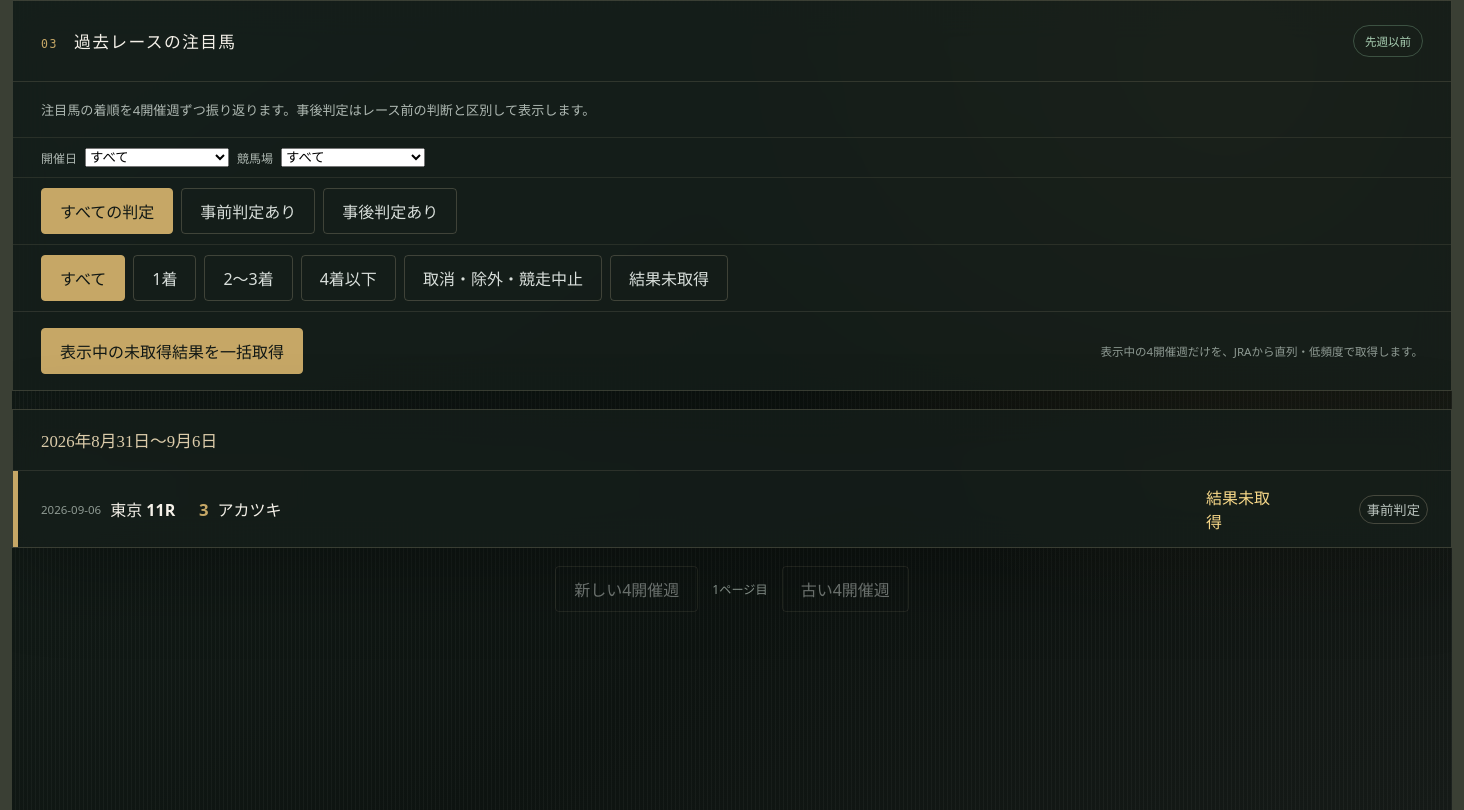
Test case: bulk-acquires missing results for the displayed meeting weeks and refreshes the rows
The image size is (1464, 810).
Expected: the button "2026-09-06 東京 11R 3 アカツキ 結果未取得 事前判定" is shown, [13, 471, 1451, 547]
Click the button "表示中の未取得結果を一括取得" at (172, 351), box [41, 328, 303, 374]
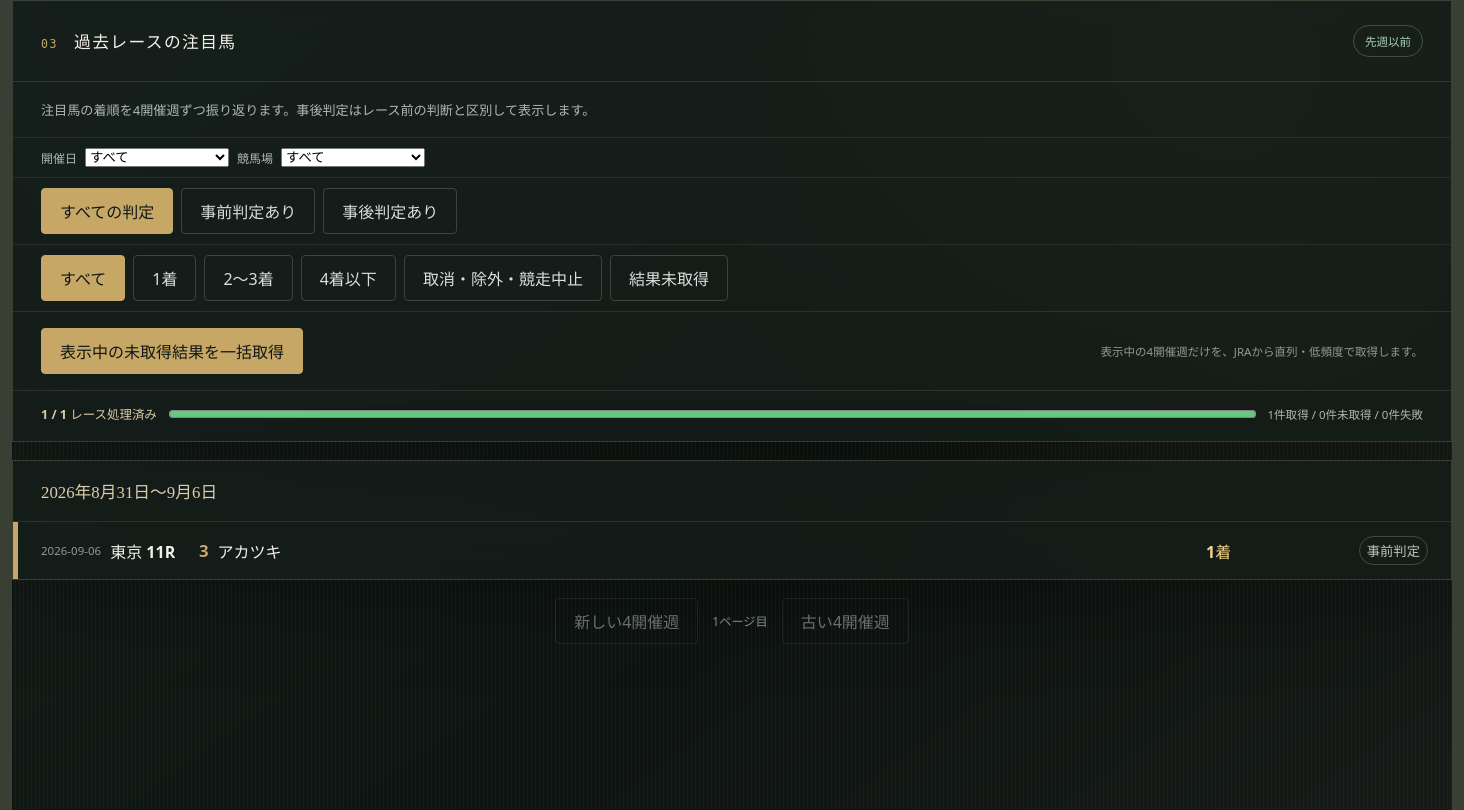
Expected: the text "0 / 1 レース処理済み" is shown, [41, 405, 157, 423]
Expected: the button "2026-09-06 東京 11R 3 アカツキ 1着 事前判定" is shown, [13, 522, 1451, 579]
Expected: the text "1件取得 / 0件未取得 / 0件失敗" is shown, [1268, 406, 1423, 422]
